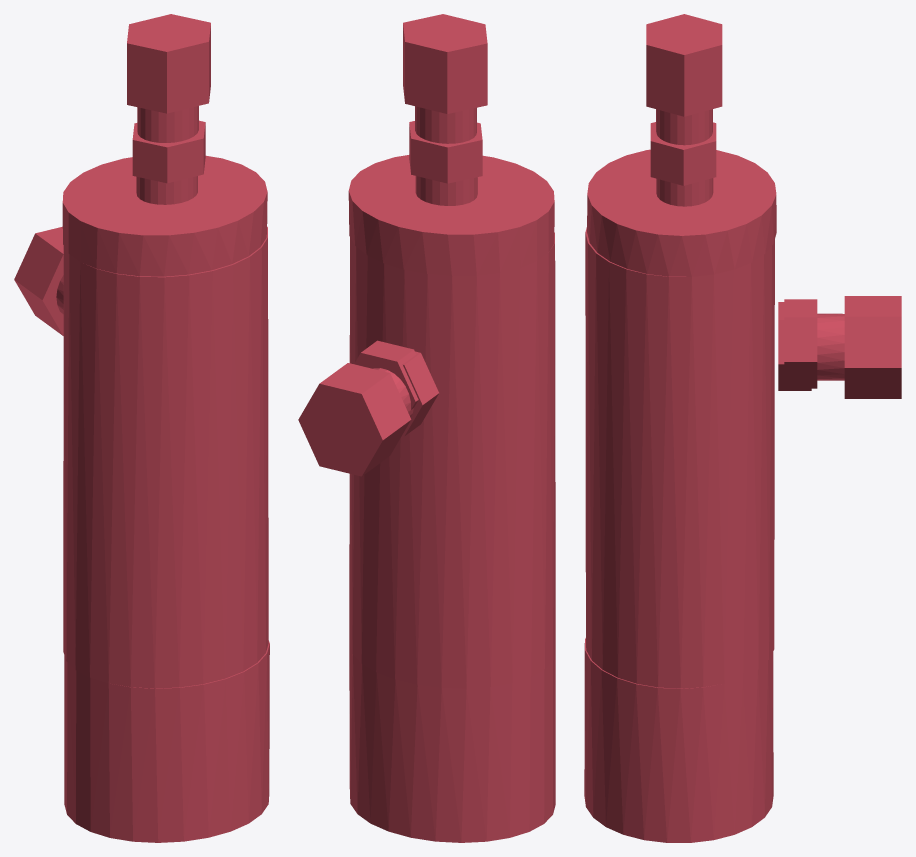
The model's file is pressureCylinder.glb.
3 renders of one model, left to right at view 1: azimuth 30°, elevation 25°; view 2: azimuth 150°, elevation 25°; view 3: azimuth 270°, elevation 25°, orthographic.
Visible parts, largest first — view 1: Mesh_Mesh_head_geo.001_lambert2SG.001; view 2: Mesh_Mesh_head_geo.001_lambert2SG.001; view 3: Mesh_Mesh_head_geo.001_lambert2SG.001.
Part boxes in pixels (left/top/right/bottom): Mesh_Mesh_head_geo.001_lambert2SG.001: left=14, top=14, right=269, bottom=842; Mesh_Mesh_head_geo.001_lambert2SG.001: left=298, top=14, right=555, bottom=842; Mesh_Mesh_head_geo.001_lambert2SG.001: left=584, top=14, right=901, bottom=842.
Bounding box in the file's own units: 20 × 80 × 30.
